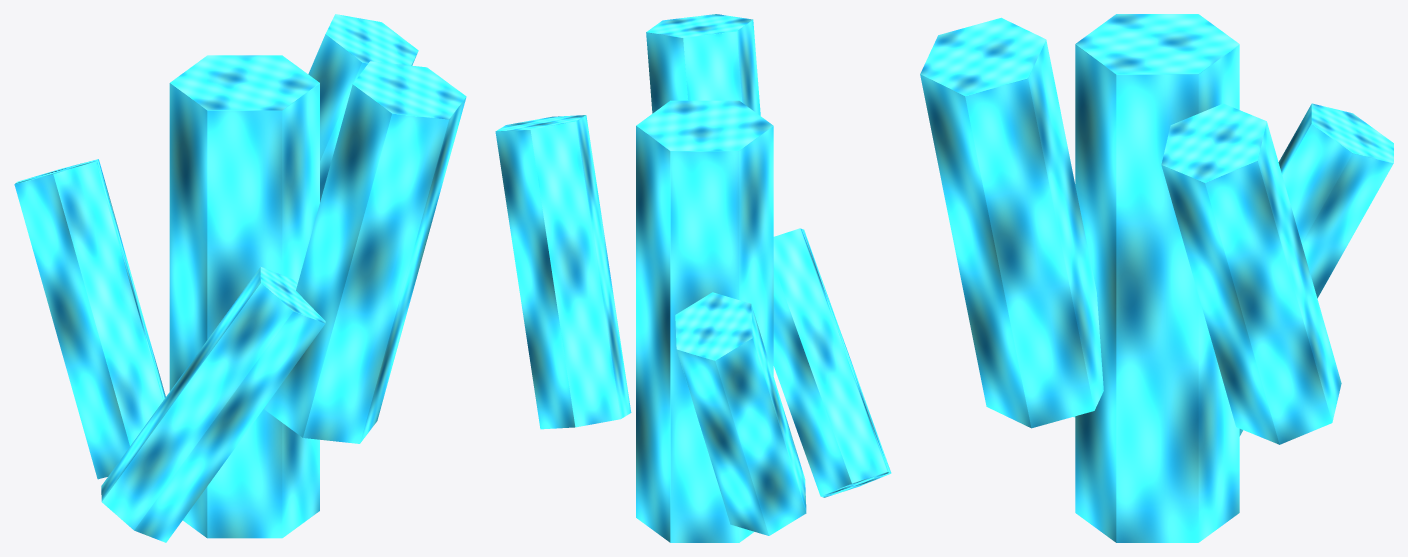
Rendered from floating_prana_crystal.glb.
3 renders of one model, left to right at view 1: azimuth 30°, elevation 25°; view 2: azimuth 150°, elevation 25°; view 3: azimuth 270°, elevation 25°, orthographic. The views are drawn at different scales.
Parts seen in each view (by area): view 1: FloatingPranaCrystal; view 2: FloatingPranaCrystal; view 3: FloatingPranaCrystal.
Part boxes in pixels (x1,y1,x2,y2): FloatingPranaCrystal: [14, 14, 466, 542]; FloatingPranaCrystal: [495, 14, 891, 542]; FloatingPranaCrystal: [920, 14, 1393, 542].
Bounding box in the file's own units: 1.97 × 2.42 × 2.02.
1 material, 1 textured.
